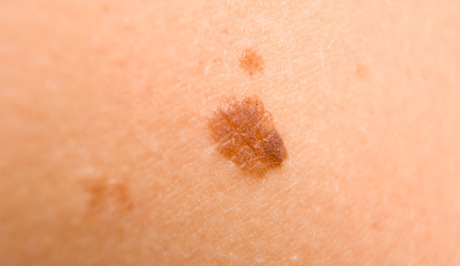melanoma: (139, 44, 365, 221)
